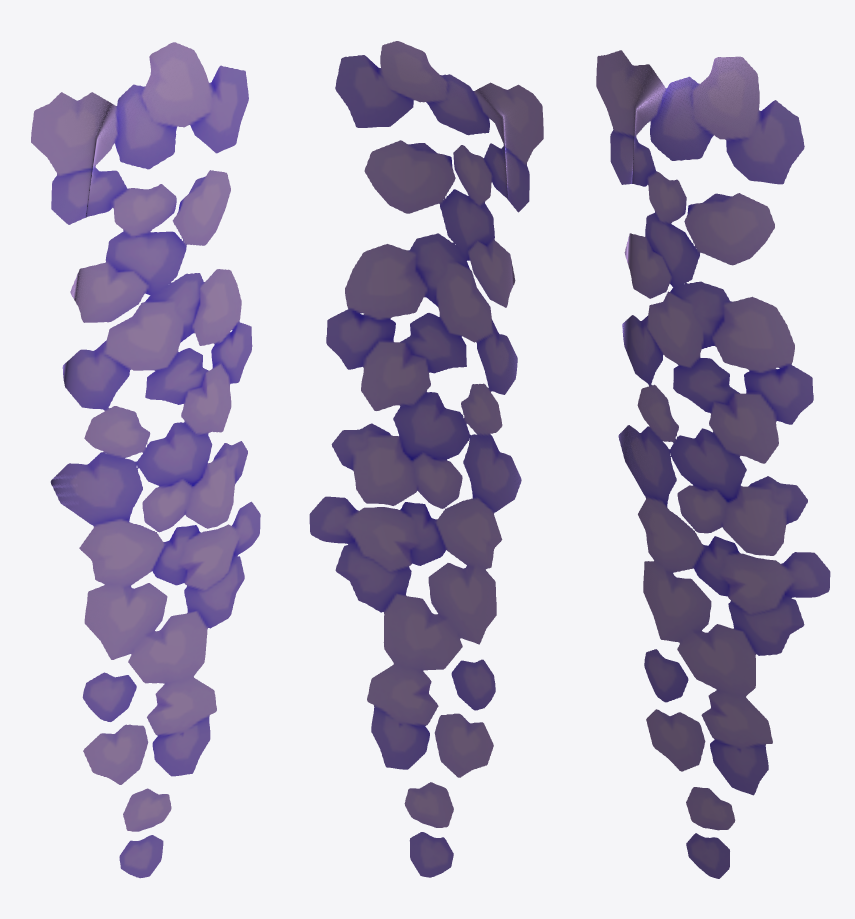
Rendered from SM_Env_Flowers_Line_02.fbx.
3 views of the same model, side by side, from view 1: azimuth 30°, elevation 25°; view 2: azimuth 150°, elevation 25°; view 3: azimuth 330°, elevation 25° (orthographic).
Visible parts, largest first — view 1: SM_Env_Flowers_Line_02; view 2: SM_Env_Flowers_Line_02; view 3: SM_Env_Flowers_Line_02.
Boxes of the visible parts, left/top/right/bottom form: SM_Env_Flowers_Line_02: left=31, top=42, right=260, bottom=878; SM_Env_Flowers_Line_02: left=309, top=41, right=543, bottom=877; SM_Env_Flowers_Line_02: left=596, top=50, right=830, bottom=878.
Size of the model in its own units: 32.41 by 102 by 6.76.
